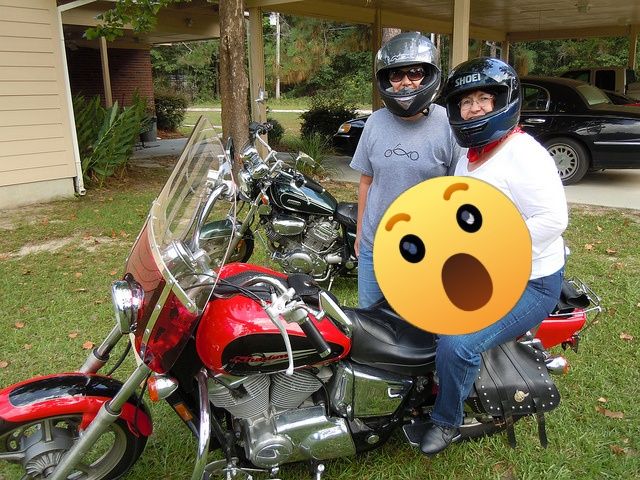wow: (373, 176, 532, 335)
